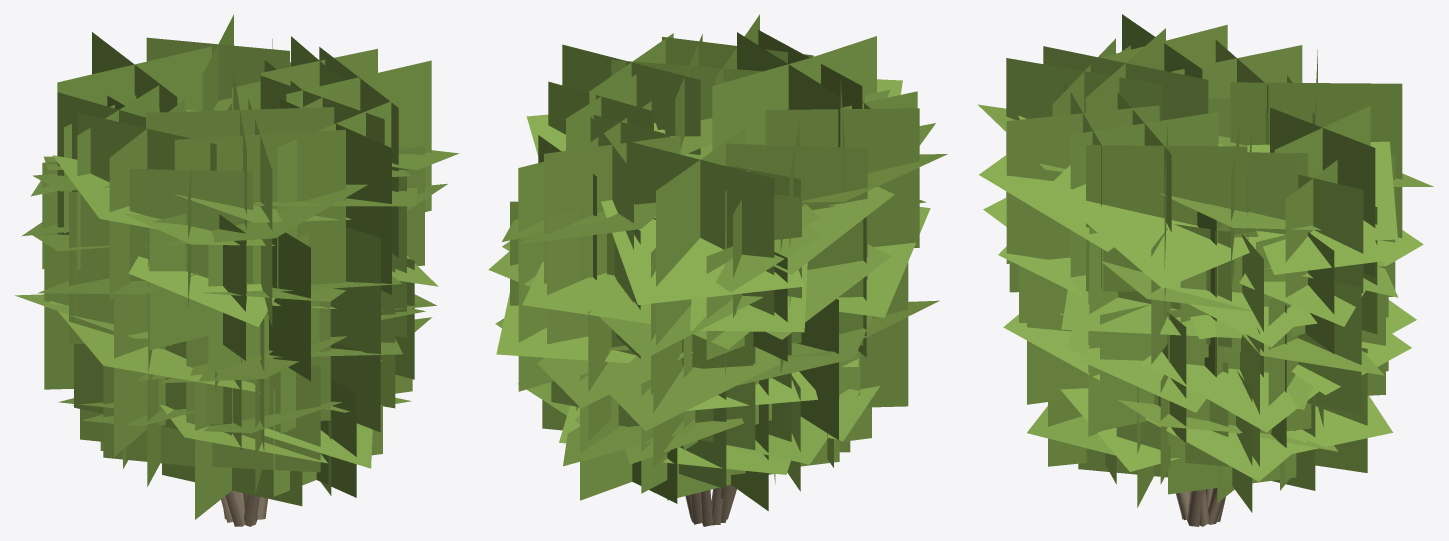
The model's file is noisetier_4_loin.glb.
3 renders of one model, left to right at view 1: azimuth 30°, elevation 25°; view 2: azimuth 150°, elevation 25°; view 3: azimuth 270°, elevation 25°, orthographic. The views are drawn at different scales.
Parts seen in each view (by area): view 1: Noisetier_T4_Leger_Loin; view 2: Noisetier_T4_Leger_Loin; view 3: Noisetier_T4_Leger_Loin.
Boxes of the visible parts, x1,y1,x2,y2 form: Noisetier_T4_Leger_Loin: (15,14,459,526); Noisetier_T4_Leger_Loin: (488,14,947,526); Noisetier_T4_Leger_Loin: (978,14,1433,526).
Bounding box in the file's own units: 6.31 × 6.92 × 6.57.
